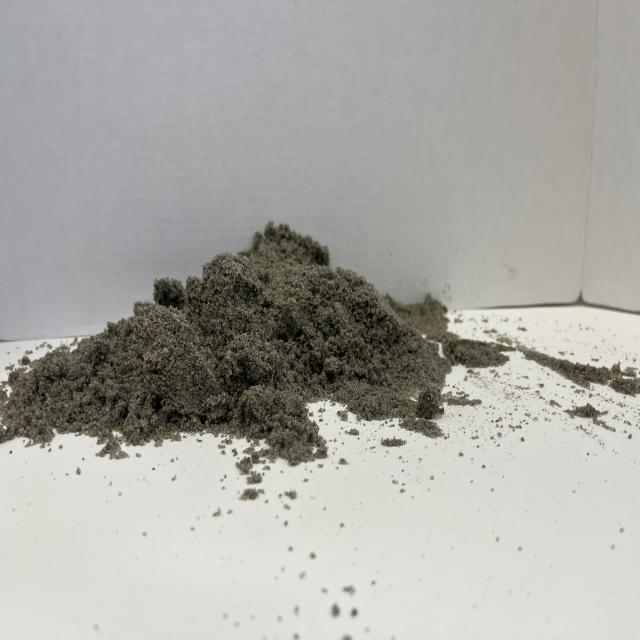sand: (6, 201, 502, 449)
